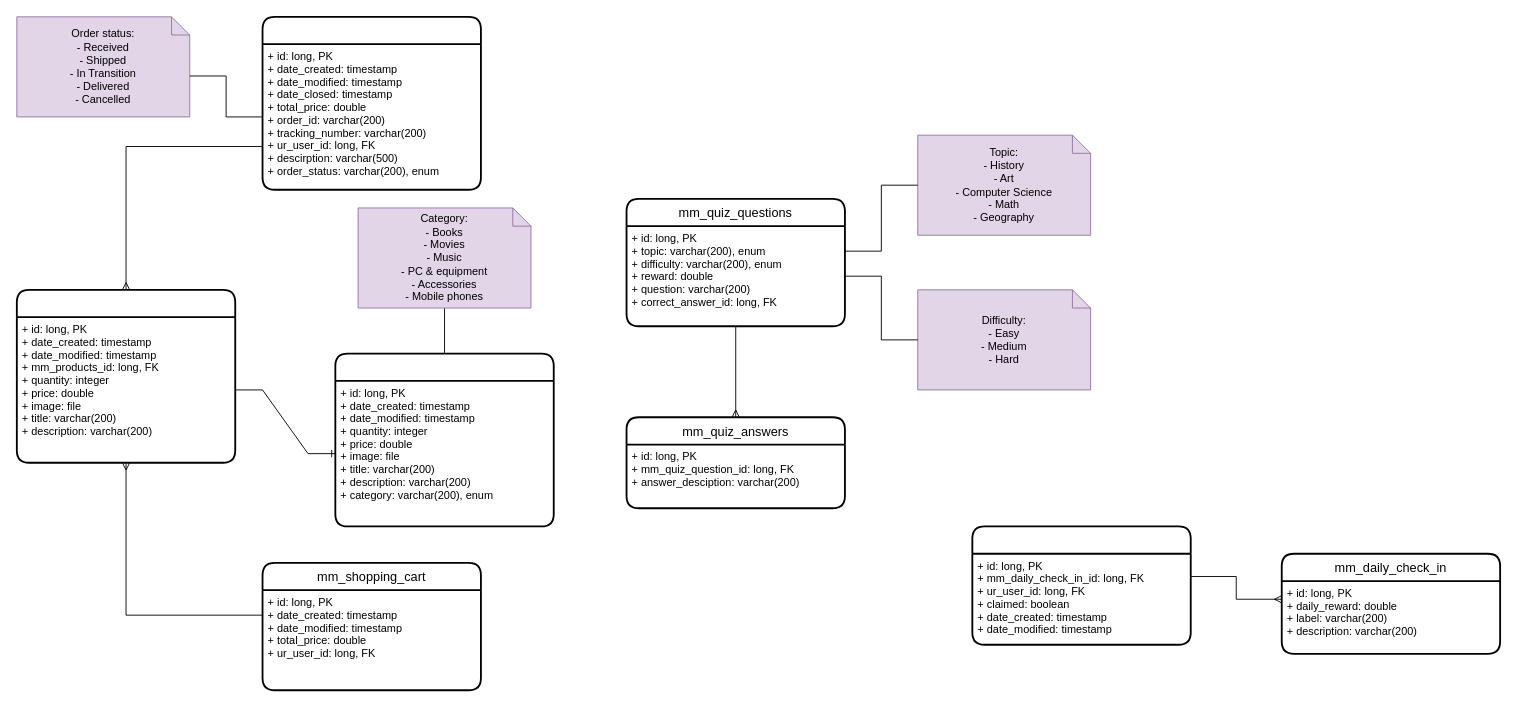
Some shapes in this 1516 by 706 pixel diagram are drawn without their labels. Here are the shapes that lost their labels. From the top down, the box of each, then its label:
(261, 15, 481, 190): mm_orders
(15, 288, 236, 463): mm_ordered_products
(334, 352, 554, 527): mm_products
(971, 525, 1191, 645): mm_user_daily_check_ins
